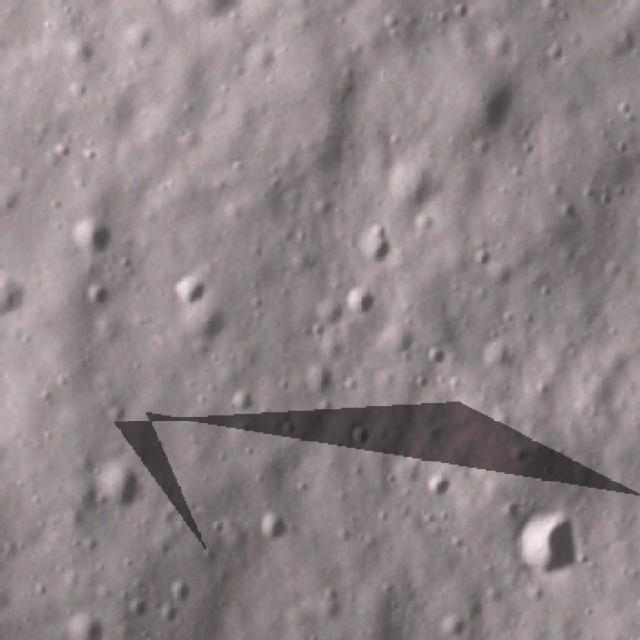crater: (502, 508, 584, 595), (85, 455, 161, 522), (67, 203, 139, 269), (244, 506, 301, 556), (162, 264, 206, 322), (416, 453, 466, 504), (194, 304, 240, 356), (338, 278, 384, 329), (0, 256, 32, 329), (355, 222, 399, 269), (60, 604, 114, 640), (98, 397, 140, 437), (119, 588, 161, 628), (158, 574, 202, 611), (67, 0, 121, 15), (368, 638, 441, 640)
